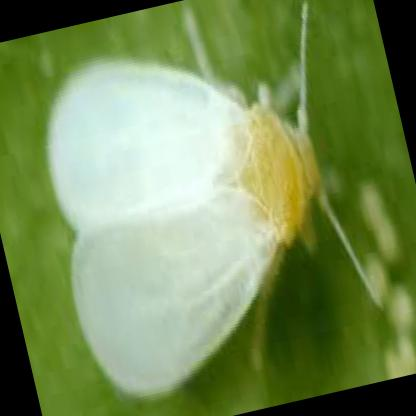whitefly: (49, 58, 322, 404)
